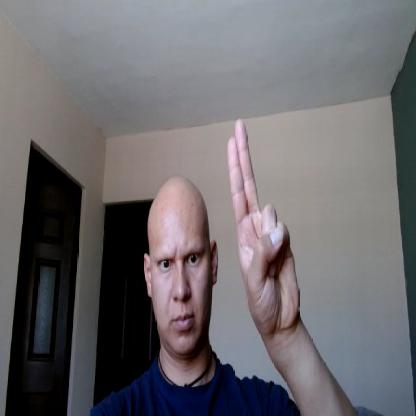U: (226, 118, 299, 333)
